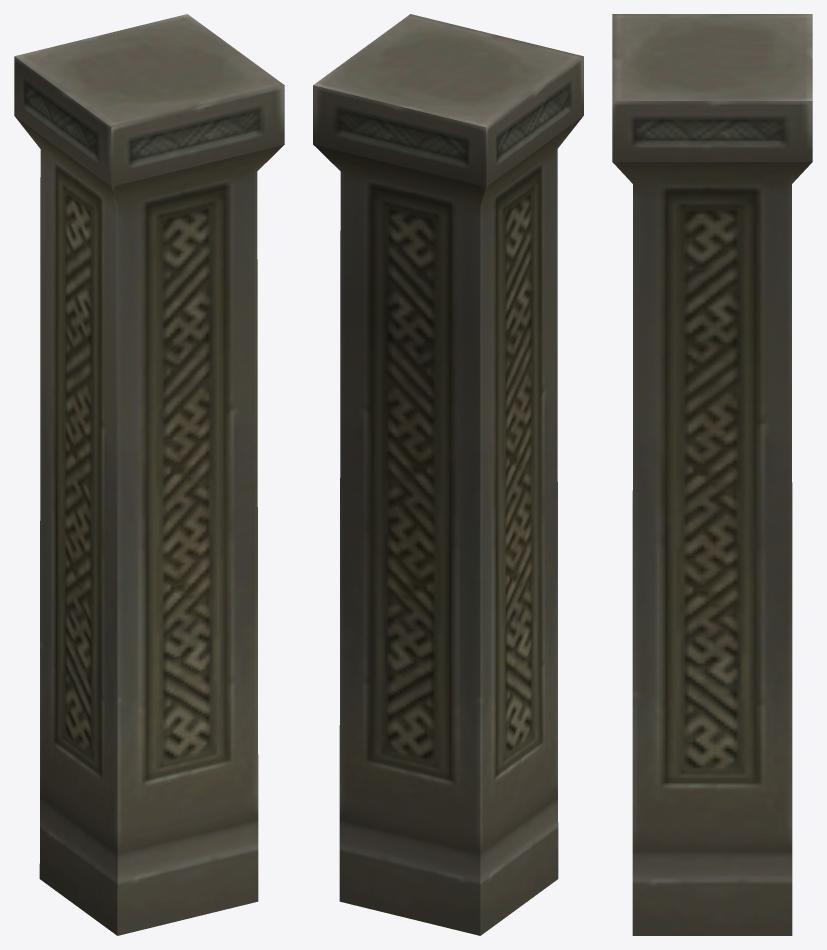
Rendered from s7_qianchongta_neibu_jianzhu001_dangelangan.FBX.
3 views of the same model, side by side, from view 1: azimuth 30°, elevation 25°; view 2: azimuth 150°, elevation 25°; view 3: azimuth 270°, elevation 25° (orthographic). The views are drawn at different scales.
Visible parts, largest first — view 1: Object002; view 2: Object002; view 3: Object002.
Boxes of the visible parts, box(x1,y1,x2,y2) form: Object002: box(14, 14, 284, 935); Object002: box(313, 14, 583, 935); Object002: box(612, 14, 812, 935).
Size of the model in its own units: 0.4635 by 2.09 by 0.4506.
